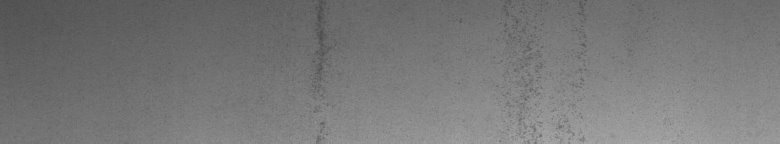ib: (456, 4, 587, 136)
